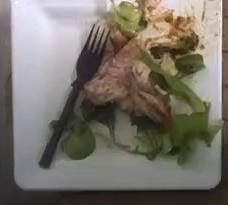chicken: (96, 60, 170, 123)
salad: (101, 1, 215, 164), (60, 94, 116, 160)
